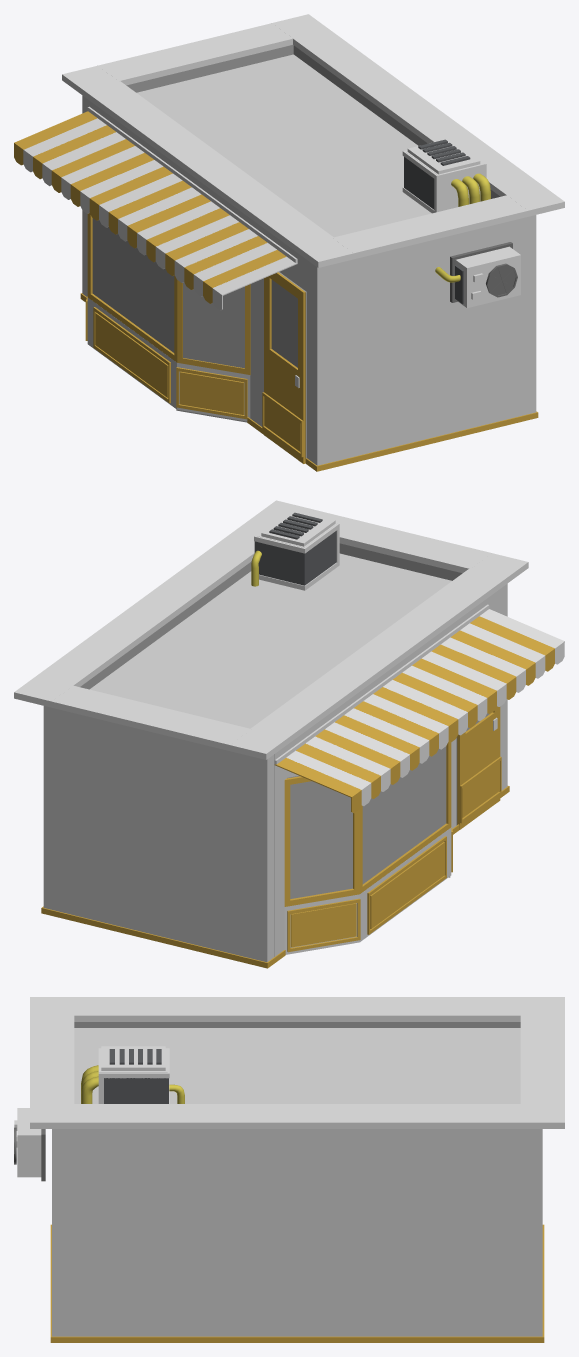
Rendered from yellow shop Deb.fbx.
3 renders of one model, top to bottom at view 1: azimuth 30°, elevation 25°; view 2: azimuth 150°, elevation 25°; view 3: azimuth 270°, elevation 25°, orthographic. The views are drawn at different scales.
Visible parts, largest first — view 1: pasted__siddsx_casa_ciambella1, pasted__tetto_casa_gialla, pasted__piano_tetto_giallo_back5, pasted__piano_tetto_gialla__back4, pasted__front_casa_ciambella3, pasted__vetro_casa_gialla_front, conditioner, pasted__piano_tettp_gialla_sx1, pasted__piano_tettp_gialla_sx, pasted__vetro_casa_gialla_dx, air_conditioner_side, pasted__davanzale_giallo_centro (+36 smaller); view 2: pasted__sidesx_casa_ciambella, pasted__tetto_casa_gialla, pasted__piano_tetto_giallo_back5, pasted__piano_tetto_gialla__back4, pasted__vetro_casa_gialla_sx, pasted__vetro_casa_gialla_front, conditioner, pasted__front_casa_ciambella3, pasted__piano_tettp_gialla_sx, pasted__piano_tettp_gialla_sx1, pasted__front_casa_ciambella4, pasted__davanzale_giallo_centro (+35 smaller); view 3: pasted__front_casa_ciambella4, pasted__tetto_casa_gialla, pasted__piano_tetto_gialla__back4, pasted__piano_tetto_giallo_back5, conditioner, pasted__piano_tettp_gialla_sx, pasted__piano_tettp_gialla_sx1, pasted__pCube310, pasted__siddsx_casa_ciambella1, pasted__interno_tetto_back4, air_conditioner_side.
Part boxes in pixels (x1,y1,x2,y2): pasted__siddsx_casa_ciambella1: [329, 215, 536, 462]; pasted__tetto_casa_gialla: [136, 54, 431, 237]; pasted__piano_tetto_giallo_back5: [62, 66, 355, 267]; pasted__piano_tetto_gialla__back4: [272, 14, 564, 216]; pasted__front_casa_ciambella3: [89, 100, 329, 465]; pasted__vetro_casa_gialla_front: [92, 218, 174, 352]; conditioner: [402, 138, 490, 213]; pasted__piano_tettp_gialla_sx1: [332, 195, 527, 258]; pasted__piano_tettp_gialla_sx: [97, 23, 292, 85]; pasted__vetro_casa_gialla_dx: [176, 282, 247, 422]; air_conditioner_side: [435, 242, 520, 308]; pasted__davanzale_giallo_centro: [95, 313, 168, 397]; pasted__sidesx_casa_ciambella: [54, 709, 274, 962]; pasted__tetto_casa_gialla: [90, 553, 451, 728]; pasted__piano_tetto_giallo_back5: [229, 553, 528, 759]; pasted__piano_tetto_gialla__back4: [14, 500, 313, 707]; pasted__vetro_casa_gialla_sx: [287, 773, 352, 898]; pasted__vetro_casa_gialla_front: [362, 746, 446, 884]; conditioner: [251, 510, 339, 590]; pasted__front_casa_ciambella3: [274, 583, 507, 956]; pasted__piano_tettp_gialla_sx: [51, 685, 251, 750]; pasted__piano_tettp_gialla_sx1: [308, 509, 491, 573]; pasted__front_casa_ciambella4: [43, 706, 56, 910]; pasted__davanzale_giallo_centro: [370, 842, 444, 928]; pasted__front_casa_ciambella4: [67, 1129, 542, 1336]; pasted__tetto_casa_gialla: [74, 1028, 520, 1103]; pasted__piano_tetto_gialla__back4: [30, 1104, 564, 1128]; pasted__piano_tetto_giallo_back5: [30, 997, 564, 1021]; conditioner: [81, 1046, 184, 1103]; pasted__piano_tettp_gialla_sx: [520, 1015, 564, 1103]; pasted__piano_tettp_gialla_sx1: [30, 1015, 74, 1103]; pasted__pCube310: [50, 1336, 544, 1342]; pasted__siddsx_casa_ciambella1: [52, 1129, 66, 1336]; pasted__interno_tetto_back4: [74, 1022, 520, 1027]; air_conditioner_side: [14, 1108, 45, 1181].
Size of the model in its own units: 4.33 by 3.32 by 6.33.
